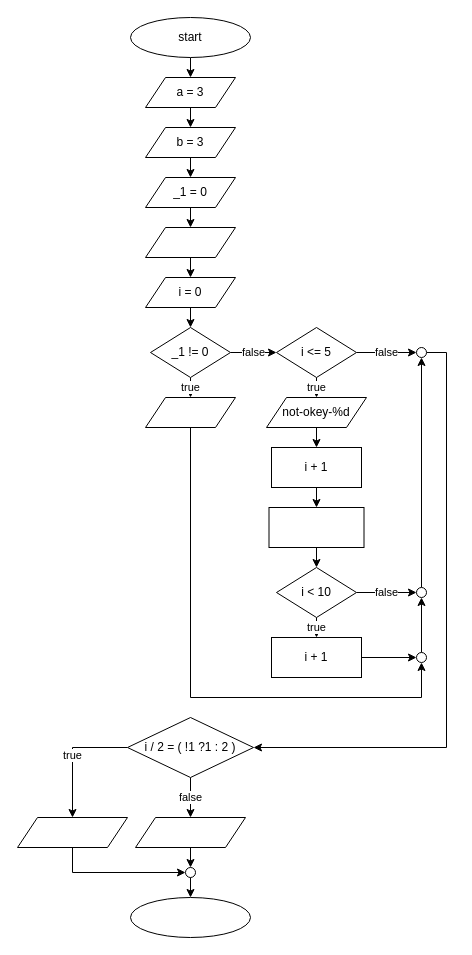
The diagram is 472 pixels wide and 955 high, and some of its shapes have lost their labels. Here are the shapes that lost their labels. From the top down, the centre of each, then its label:
At [190,242]: "output _1".
At [190,412]: "output ok".
At [316,527]: "set i = 3".
At [72,832]: "output see see".
At [190,832]: "output haha".
At [190,917]: "end".
